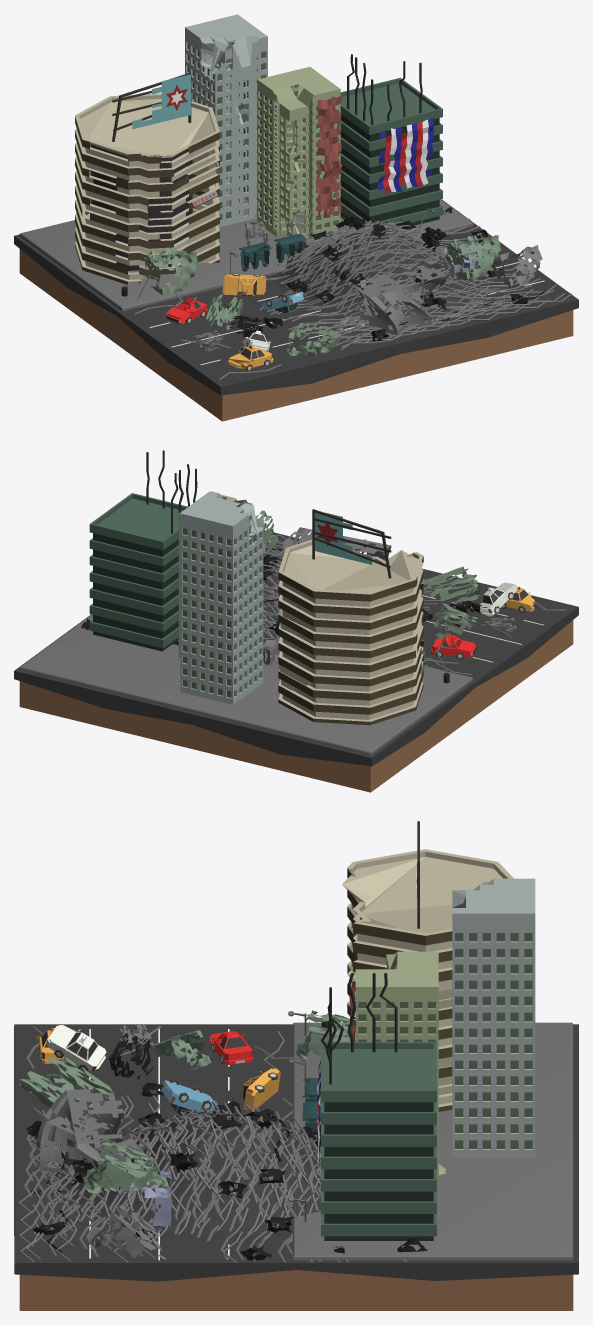
The model's file is 01 Zombie_3.FBX.
3 renders of one model, top to bottom at view 1: azimuth 30°, elevation 25°; view 2: azimuth 150°, elevation 25°; view 3: azimuth 270°, elevation 25°, orthographic. The views are drawn at different scales.
Parts seen in each view (by area): view 1: Base, Building_1, Box080, Building_4, Building_3, Building_2, Box071, Hoarding, Box081, Box074, Box075, Box083 (+8 smaller); view 2: Base, Building_1, Building_2, Building_4, Hoarding, Box080, Box083, Box071, Box084, Car1, Car3, Building_3 (+1 smaller); view 3: Base, Box080, Building_4, Building_2, Building_1, Building_3, Box071, Box076, Box075, Box083, Box074, Car3 (+7 smaller).
Part boxes in pixels (x1,y1,x2,y2): Base: (14, 198, 578, 421); Building_1: (75, 93, 219, 284); Box080: (134, 207, 571, 380); Building_4: (340, 54, 442, 225); Building_3: (257, 66, 342, 238); Building_2: (185, 14, 267, 227); Box071: (356, 260, 452, 335); Hoarding: (112, 72, 191, 141); Box081: (144, 249, 198, 295); Box074: (447, 235, 501, 280); Box075: (491, 245, 542, 287); Box083: (286, 322, 343, 357); Base: (14, 530, 578, 792); Building_1: (278, 539, 423, 725); Building_2: (180, 491, 263, 704); Building_4: (89, 450, 197, 651); Hoarding: (312, 509, 391, 578); Box080: (77, 535, 566, 675); Box083: (422, 566, 481, 602); Box071: (283, 527, 391, 560); Box084: (432, 603, 478, 638); Car1: (431, 634, 476, 659); Car3: (480, 582, 517, 616); Building_3: (178, 491, 251, 657); Base: (14, 1022, 578, 1310); Box080: (18, 1026, 427, 1263); Building_4: (316, 973, 436, 1240); Building_2: (452, 878, 535, 1157); Building_1: (342, 849, 513, 1111); Building_3: (349, 951, 446, 1182); Box071: (36, 1089, 144, 1169); Box076: (40, 1115, 146, 1173); Box075: (88, 1203, 166, 1259); Box083: (19, 1056, 112, 1116); Box074: (83, 1139, 160, 1193); Car3: (46, 1025, 106, 1070).
Size of the model in its own units: 10215 by 5965 by 10205.
